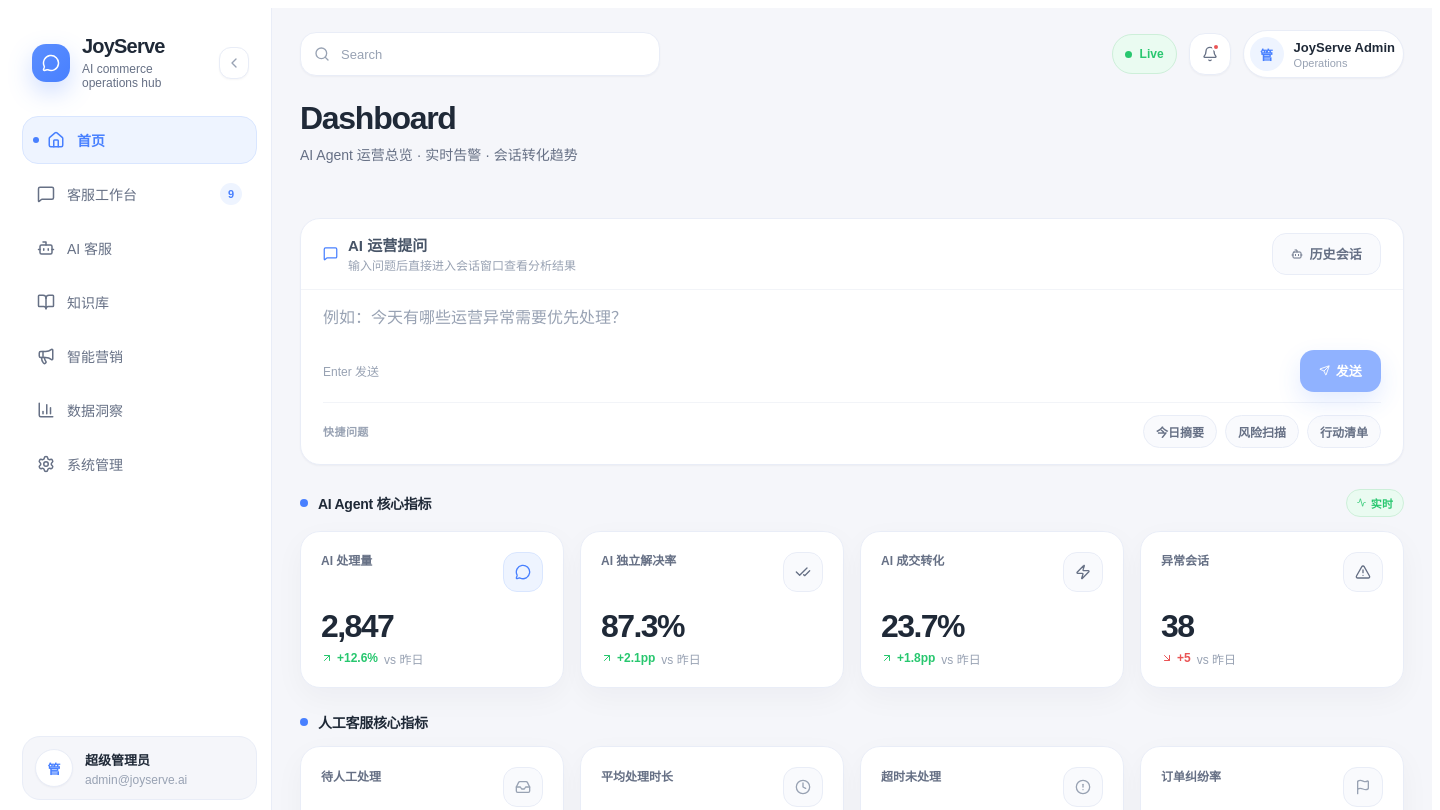
DashStack visual baseline › 保持导航切换能力并展示当前页面标题
Check: the heading "Dashboard" is shown, box x1=300 y1=100 x2=456 y2=136
Click the button "智能营销": (140, 356) x1=22 y1=332 x2=257 y2=380
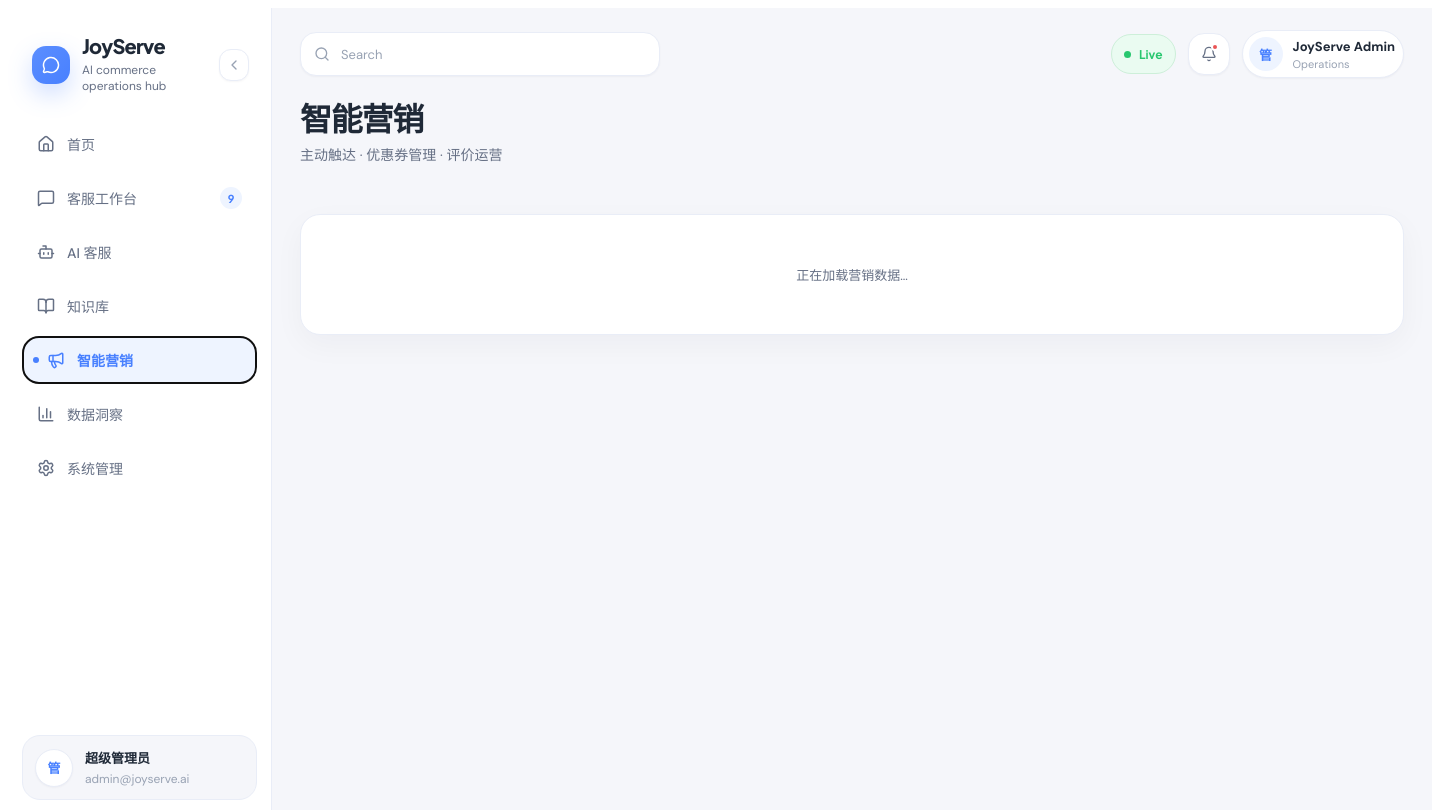
Check: the heading "智能营销" is shown, box x1=300 y1=98 x2=423 y2=138
Click the button "AI 客服": (140, 252) x1=22 y1=228 x2=257 y2=276
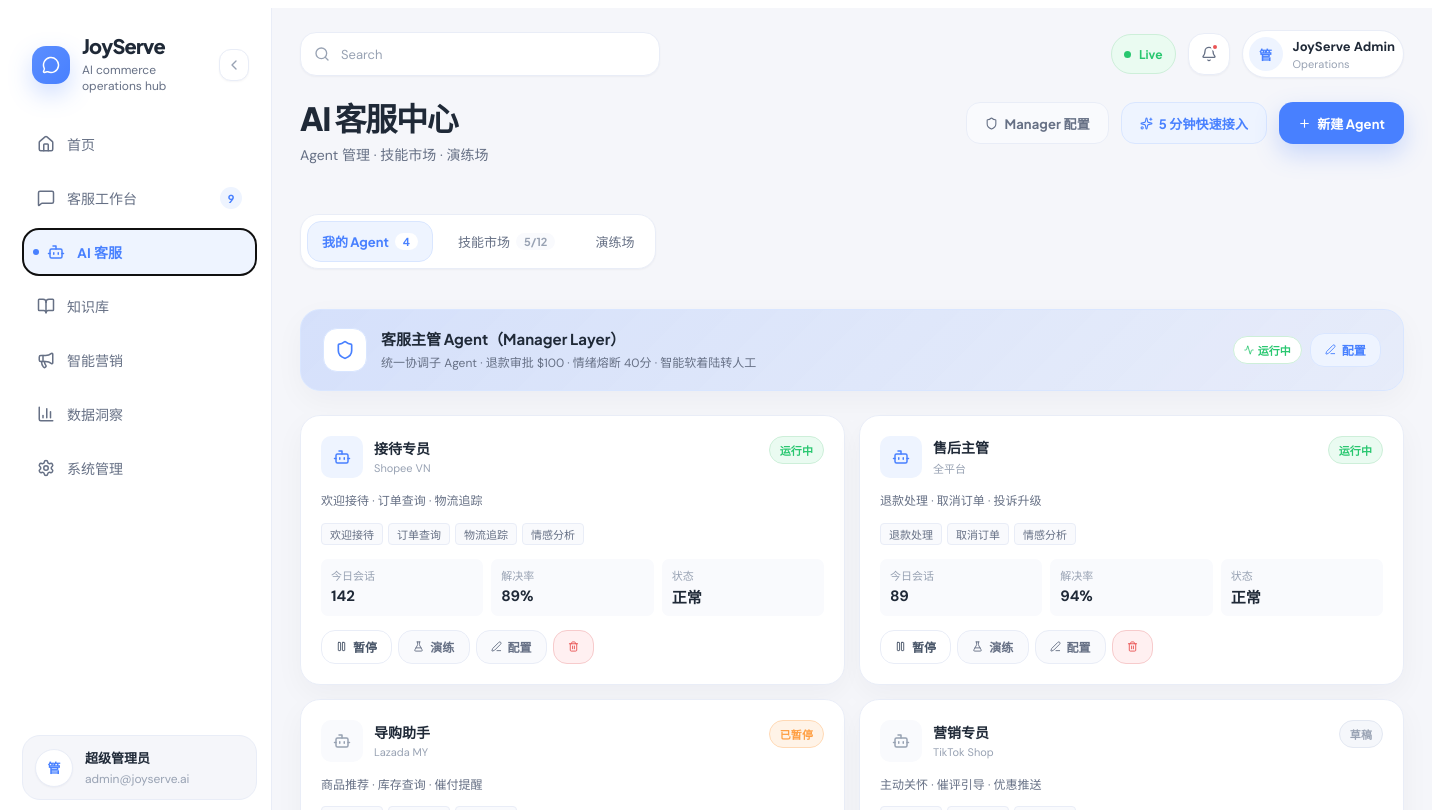
Check: the heading "AI 客服中心" is shown, box x1=300 y1=98 x2=457 y2=138
